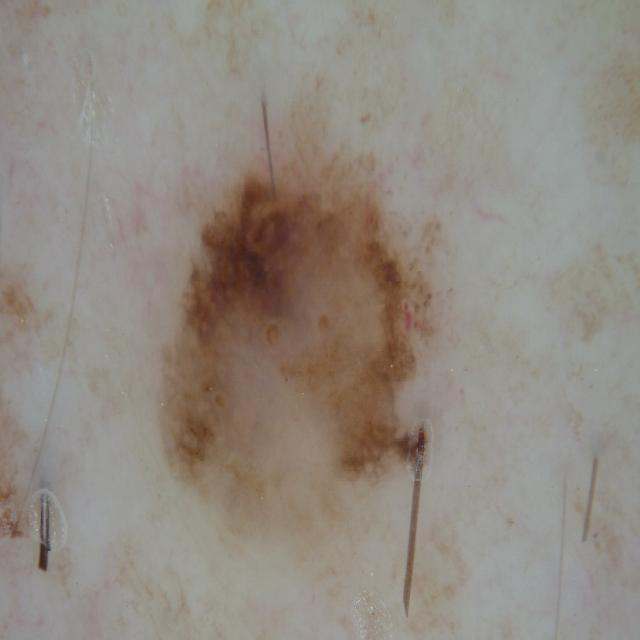Melanoma: (94, 113, 499, 557)
